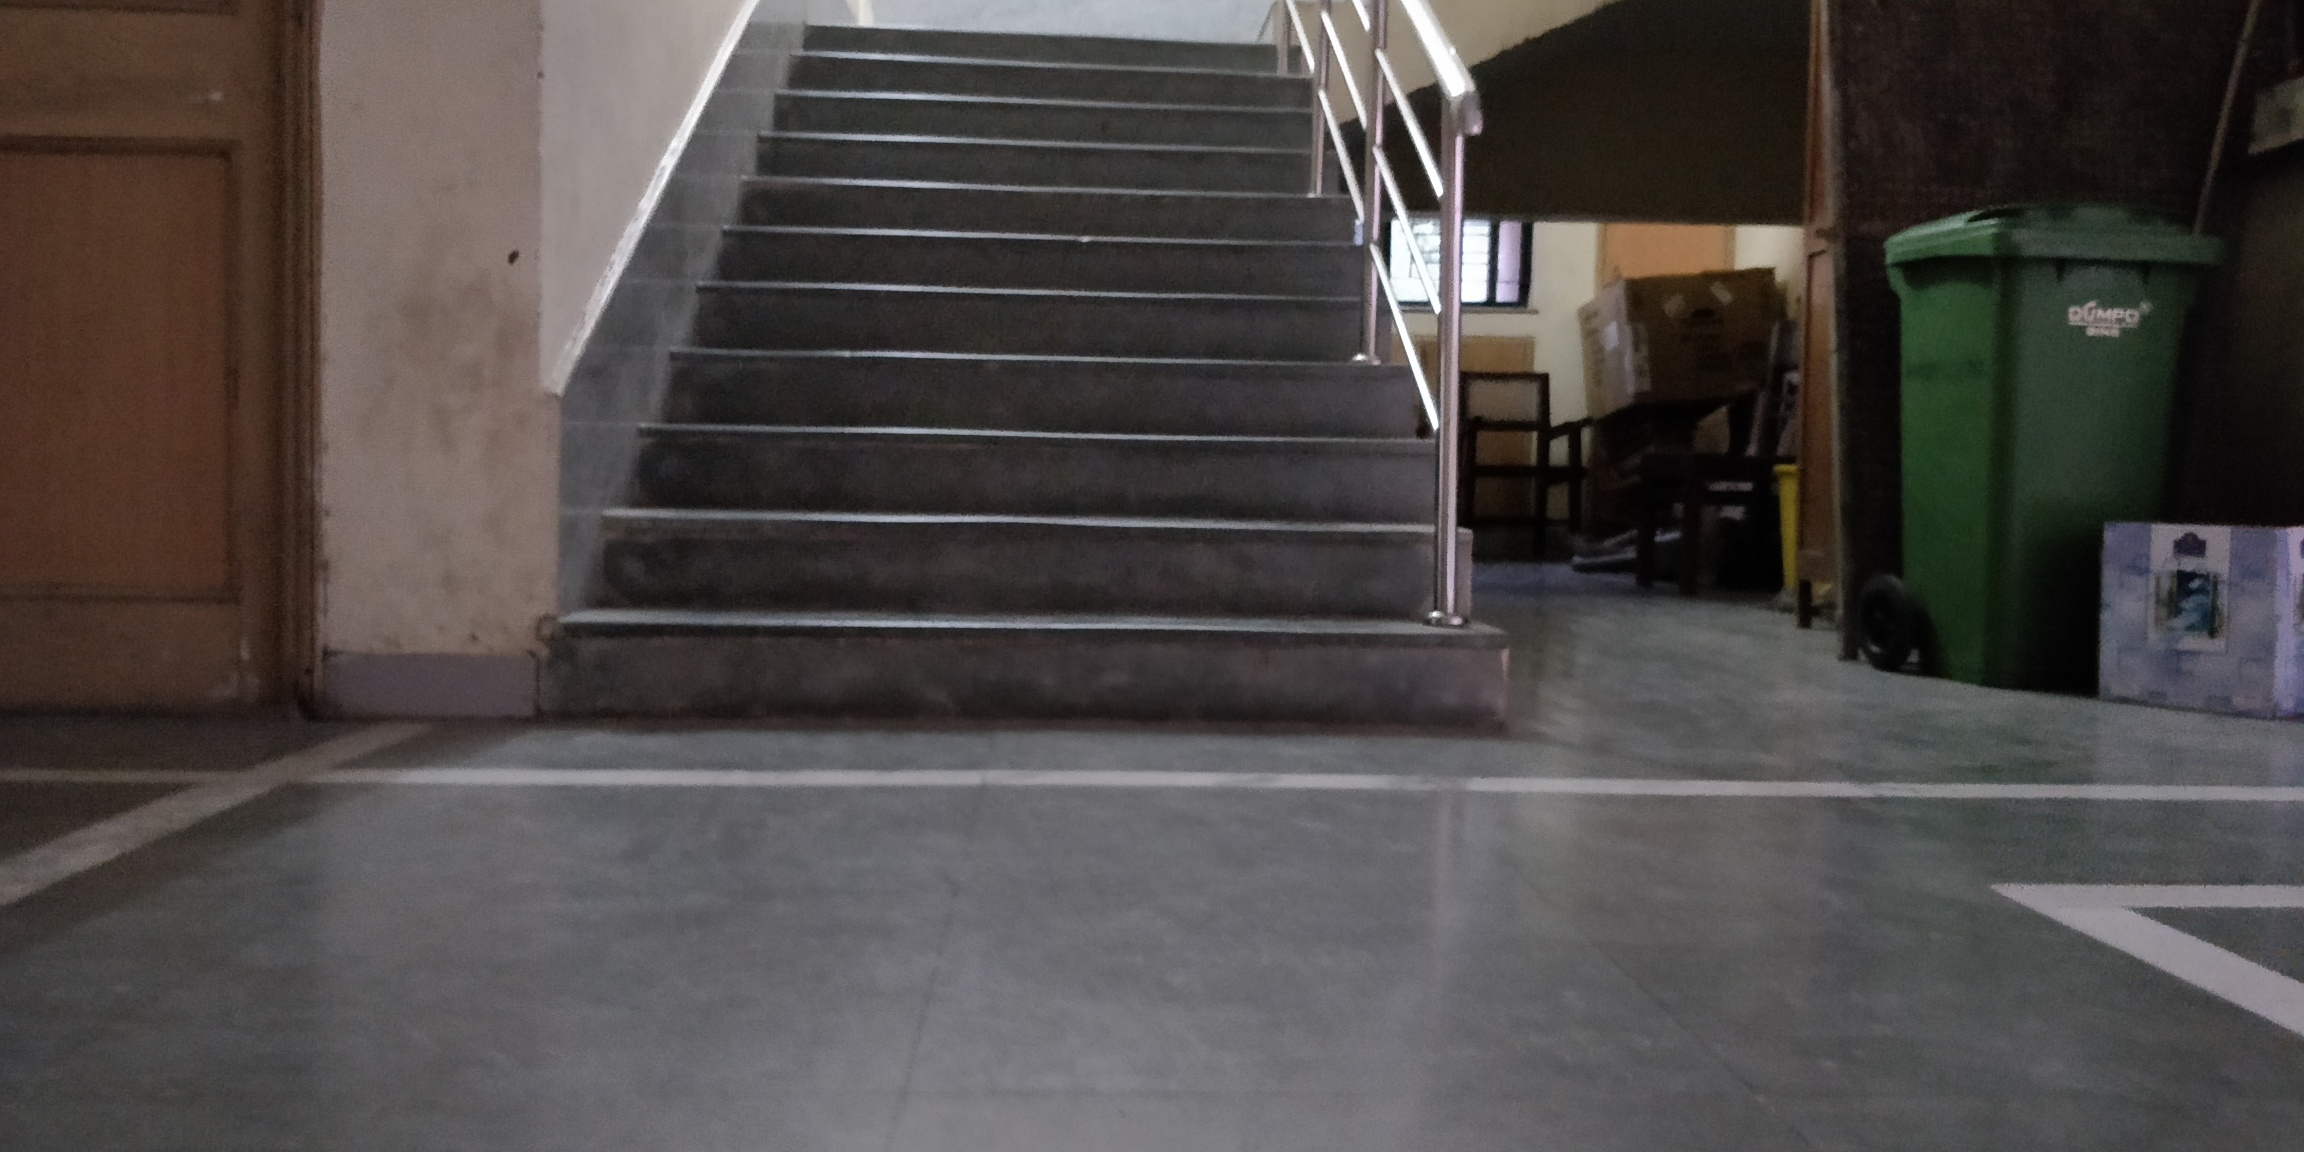stairs_up: (597, 21, 1481, 730)
